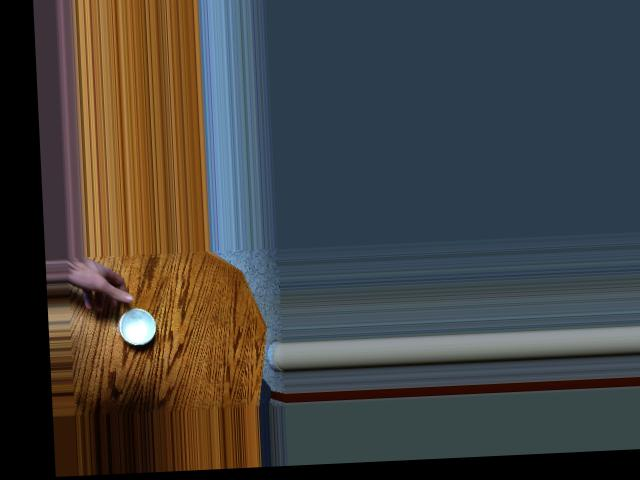cotage: (108, 304, 165, 353)
